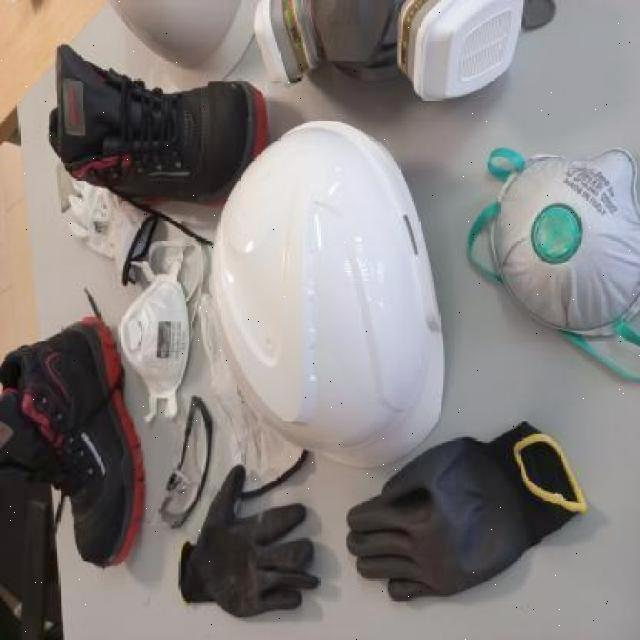Gloves: (347, 421, 588, 608), (176, 466, 322, 617)
Shoes: (0, 315, 149, 572), (43, 44, 271, 201)
